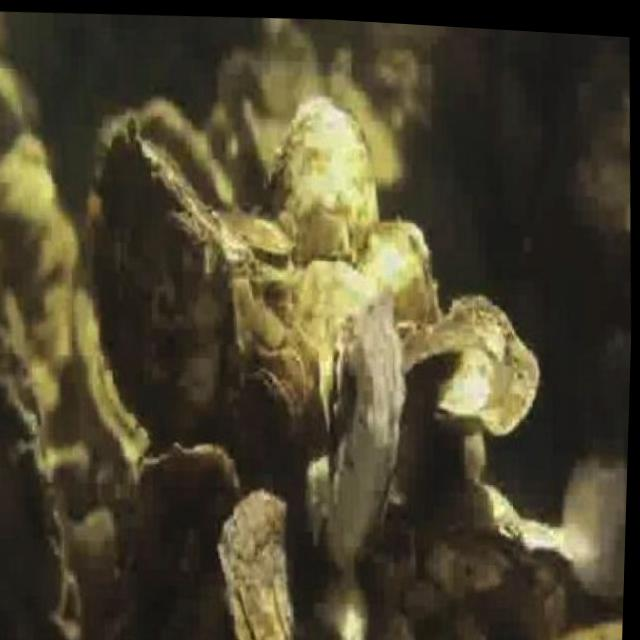Oyster-Closed: (365, 220, 446, 326), (517, 522, 606, 573), (316, 335, 350, 443), (225, 207, 299, 253), (539, 581, 571, 640)
Oyster-Indeterminate: (91, 112, 241, 437), (0, 295, 95, 640), (317, 305, 403, 577), (258, 94, 383, 268), (395, 298, 543, 439), (136, 437, 245, 579), (213, 485, 312, 640), (263, 261, 378, 373), (143, 96, 247, 203), (230, 365, 306, 499), (421, 534, 551, 609), (347, 84, 412, 186), (260, 23, 322, 119), (311, 569, 367, 640), (216, 51, 262, 127)
